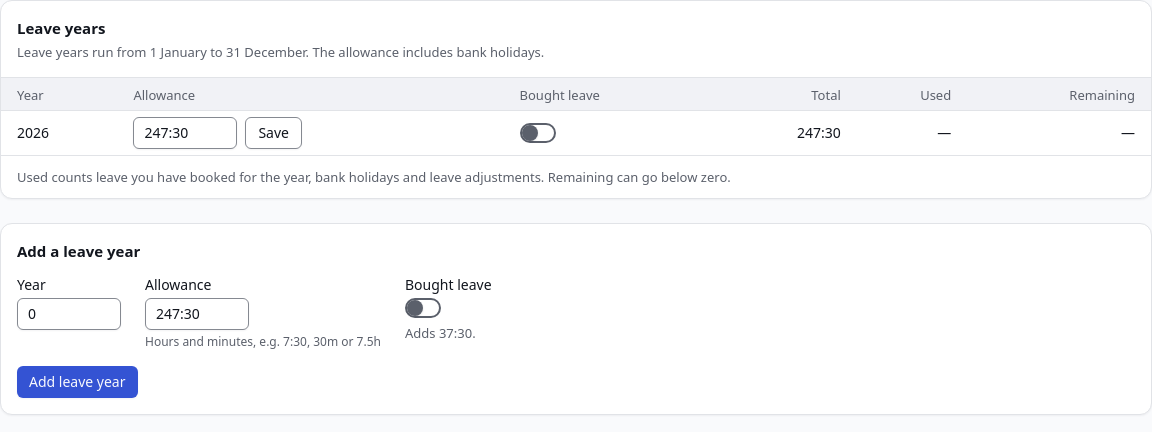
Test: LeaveTab › saves bought leave as soon as it is switched, with a quiet "Saved"
The image size is (1152, 432).
Click the switch named "Bought leave for 2026".
click(538, 132)  # box 520,122 -> 556,142
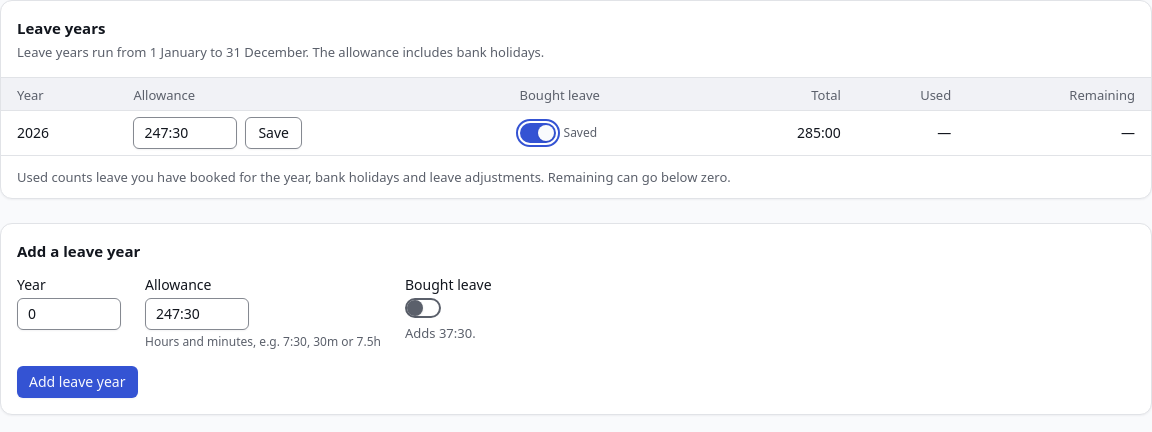
Check: the message reads "Saved", box 564,124 -> 597,140
Check: the text "285:00" is shown, box 717,110 -> 853,154
